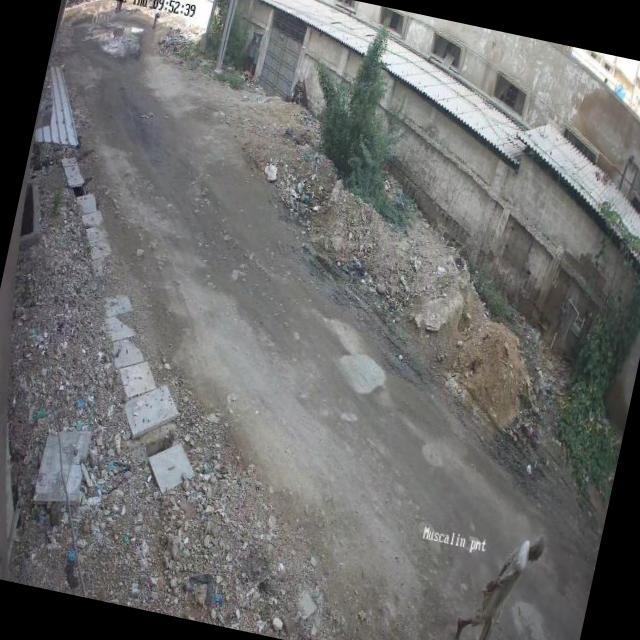person: (450, 518, 547, 640), (150, 0, 163, 31)
